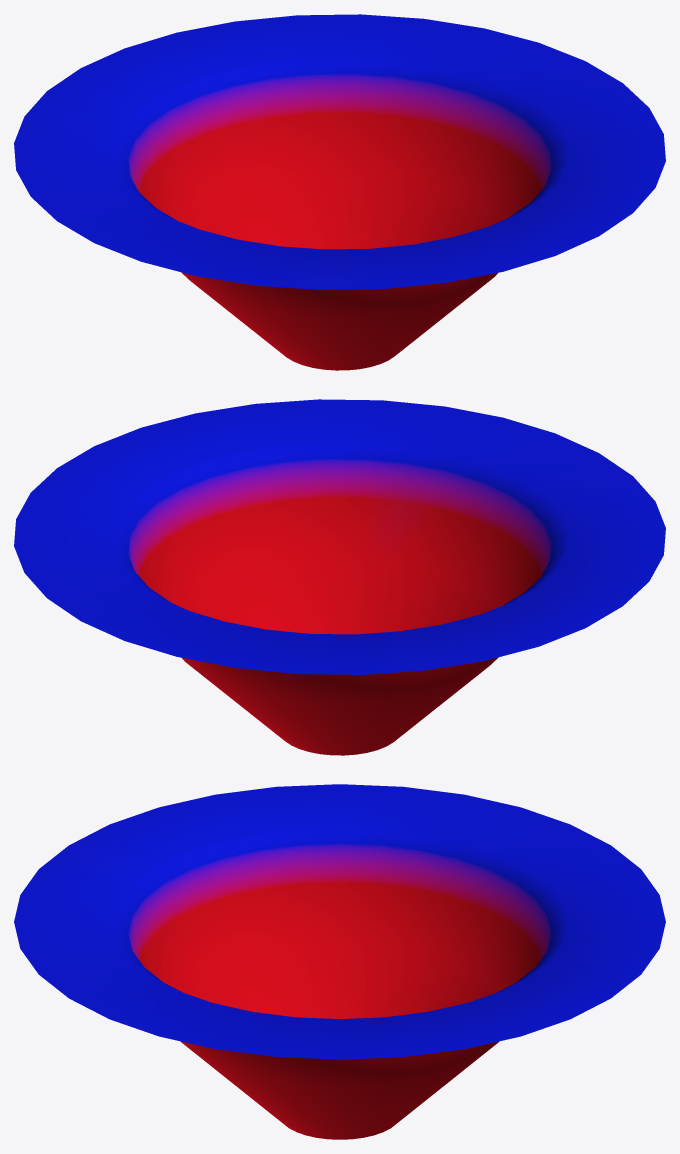
File: Tropics Mountain Trench.fbx
The picture shows the model from 3 angles, top to bottom: view 1: azimuth 30°, elevation 25°; view 2: azimuth 150°, elevation 25°; view 3: azimuth 270°, elevation 25°; orthographic projection.
Parts seen in each view (by area): view 1: Mountain Trench; view 2: Mountain Trench; view 3: Mountain Trench.
Part boxes in pixels (box(x1,y1,x2,y2)): Mountain Trench: box(14, 14, 665, 370); Mountain Trench: box(14, 399, 665, 755); Mountain Trench: box(14, 784, 665, 1139).
Size of the model in its own units: 74352 by 24157 by 74352.
